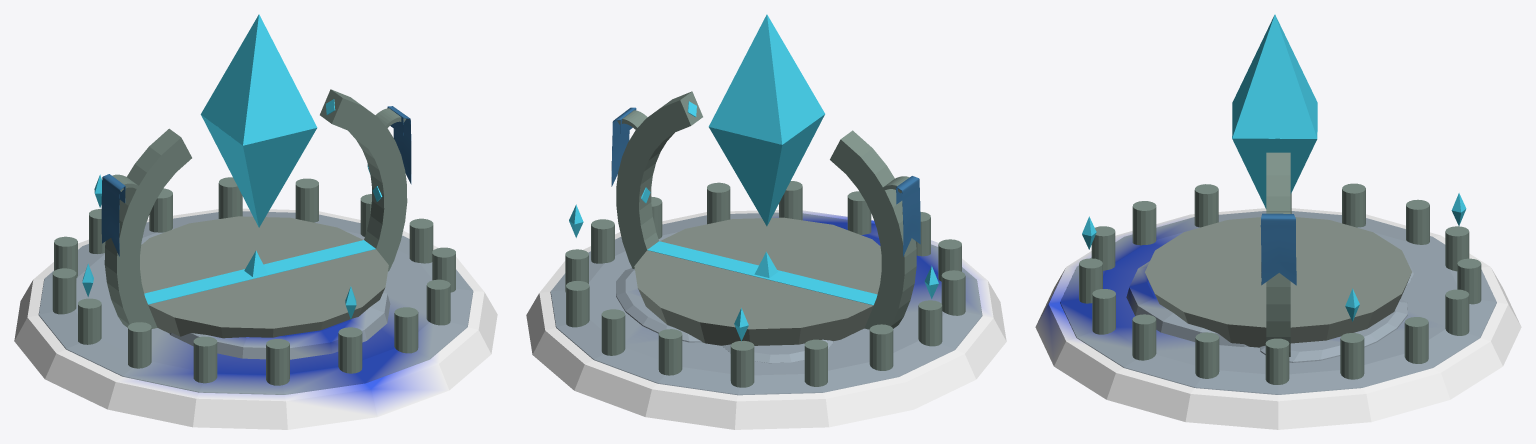
File: IceTower-lvl1.fbx
3 renders of one model, left to right at view 1: azimuth 30°, elevation 25°; view 2: azimuth 150°, elevation 25°; view 3: azimuth 270°, elevation 25°, orthographic.
Parts seen in each view (by area): view 1: Цилиндр.001, Цилиндр, Цилиндр.018, Cone.001, Куб, Куб.001, Цилиндр.019, Куб.014, Plane.009_feather_0, Цилиндр.006, Цилиндр.017, Цилиндр.015 (+13 smaller); view 2: Цилиндр.001, Цилиндр, Цилиндр.018, Cone.001, Куб, Куб.001, Куб.014, Цилиндр.021, Plane.009_feather_0, Цилиндр.004, Цилиндр.008, Цилиндр.003 (+14 smaller); view 3: Цилиндр.001, Цилиндр.018, Цилиндр, Cone.001, Куб.001, Plane.009_feather_0.001, Цилиндр.019, Цилиндр.021, Цилиндр.013, Цилиндр.012, Цилиндр.010, Цилиндр.011 (+11 smaller).
Boxes of the visible parts, x1=… form: Цилиндр.001: x1=140, y1=216, x2=388, y2=338; Цилиндр: x1=14, y1=208, x2=497, y2=429; Цилиндр.018: x1=38, y1=211, x2=473, y2=394; Cone.001: x1=200, y1=14, x2=317, y2=227; Куб: x1=104, y1=128, x2=191, y2=328; Куб.001: x1=320, y1=89, x2=407, y2=271; Цилиндр.019: x1=169, y1=290, x2=390, y2=359; Куб.014: x1=144, y1=240, x2=375, y2=304; Plane.009_feather_0: x1=101, y1=174, x2=125, y2=256; Цилиндр.006: x1=193, y1=336, x2=217, y2=383; Цилиндр.017: x1=338, y1=327, x2=362, y2=373; Цилиндр.015: x1=394, y1=307, x2=418, y2=353; Цилиндр.001: x1=634, y1=217, x2=881, y2=345; Цилиндр: x1=526, y1=210, x2=1006, y2=429; Цилиндр.018: x1=550, y1=212, x2=982, y2=395; Cone.001: x1=708, y1=14, x2=824, y2=226; Куб: x1=830, y1=130, x2=916, y2=329; Куб.001: x1=616, y1=91, x2=702, y2=268; Куб.014: x1=647, y1=241, x2=877, y2=305; Цилиндр.021: x1=616, y1=268, x2=701, y2=342; Plane.009_feather_0: x1=896, y1=176, x2=920, y2=256; Цилиндр.004: x1=730, y1=341, x2=754, y2=387; Цилиндр.008: x1=869, y1=324, x2=893, y2=370; Цилиндр.003: x1=601, y1=309, x2=625, y2=355; Цилиндр.001: x1=1145, y1=217, x2=1411, y2=347; Цилиндр.018: x1=1060, y1=211, x2=1496, y2=394; Цилиндр: x1=1035, y1=208, x2=1521, y2=429; Cone.001: x1=1232, y1=14, x2=1317, y2=208; Куб.001: x1=1266, y1=152, x2=1290, y2=356; Plane.009_feather_0.001: x1=1260, y1=213, x2=1296, y2=285; Цилиндр.019: x1=1126, y1=261, x2=1248, y2=347; Цилиндр.021: x1=1260, y1=298, x2=1407, y2=362; Цилиндр.013: x1=1404, y1=317, x2=1428, y2=363; Цилиндр.012: x1=1340, y1=333, x2=1364, y2=379; Цилиндр.010: x1=1265, y1=338, x2=1289, y2=384; Цилиндр.011: x1=1195, y1=332, x2=1219, y2=378.
Size of the model in its own units: 783 by 558 by 783.
